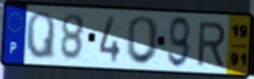4: (98, 13, 123, 65)
8: (58, 12, 87, 61)
9: (167, 15, 194, 71)
O: (124, 15, 162, 66)
Q: (25, 11, 57, 62)
R: (196, 21, 228, 68)
